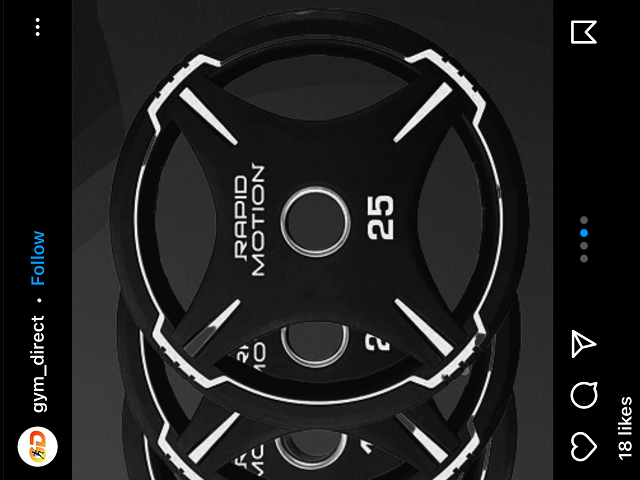weights: (110, 9, 532, 428)
